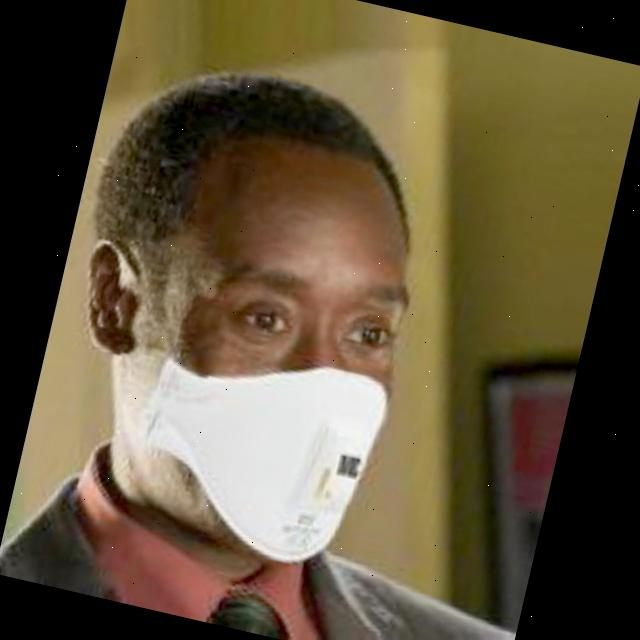suspicion: (48, 47, 511, 598)
